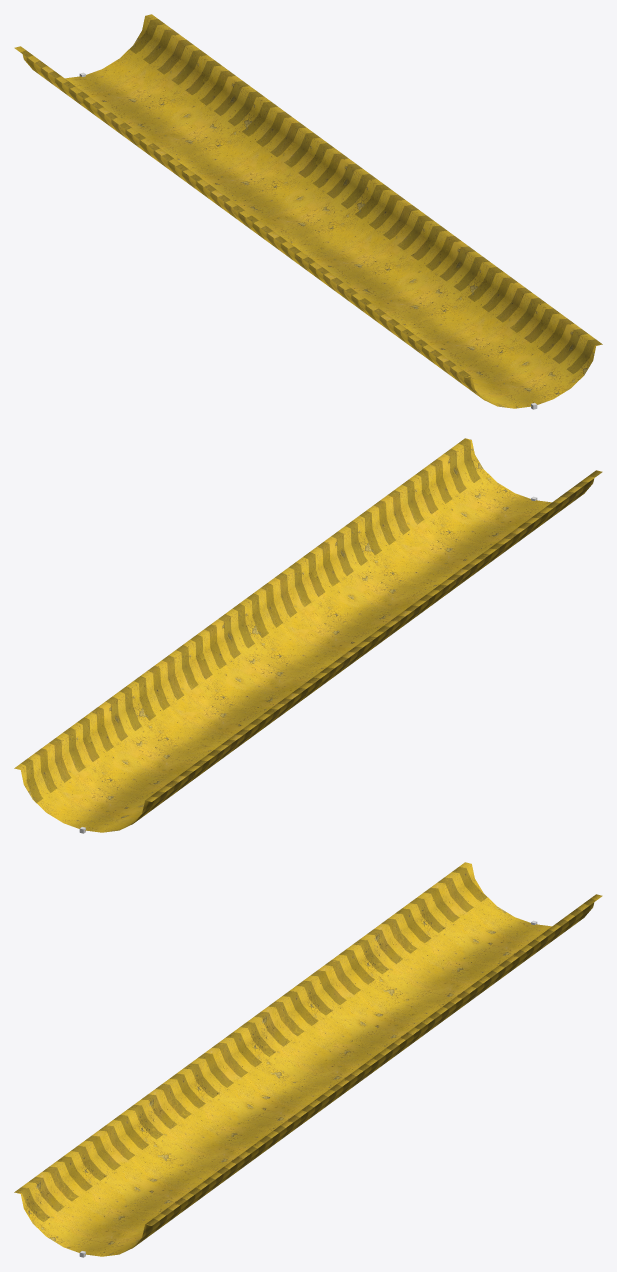
Rendered from roadStraight.long.fbx.
3 views of the same model, one above another, from view 1: azimuth 30°, elevation 25°; view 2: azimuth 150°, elevation 25°; view 3: azimuth 330°, elevation 25° (orthographic).
Parts seen in each view (by area): view 1: MESH roadStraight.long; view 2: MESH roadStraight.long; view 3: MESH roadStraight.long.
Part boxes in pixels (x1=…): MESH roadStraight.long: x1=14, y1=14, x2=602, y2=408; MESH roadStraight.long: x1=14, y1=438, x2=602, y2=832; MESH roadStraight.long: x1=14, y1=862, x2=602, y2=1256.
Size of what is drawn, in the model's own units: 1694 by 553 by 9650.
